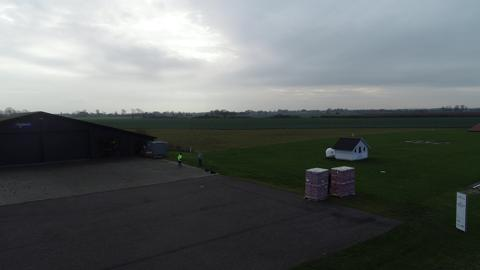RockwoolPallet: (331, 165, 354, 196)
